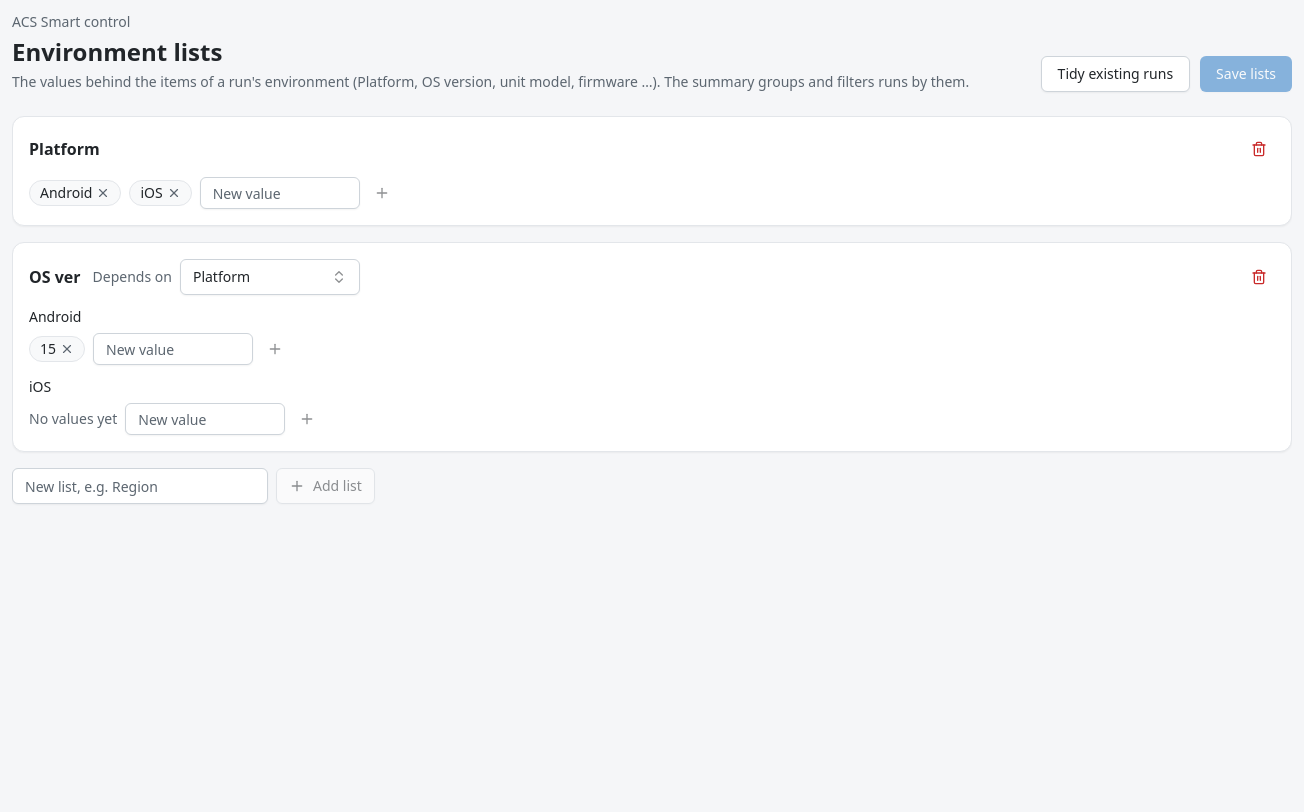
Test case: EnvListsPage › removes a value and adds a new list
Click the button named "Remove 15 from OS ver of Android".
click(67, 349)  # box left=60, top=342, right=74, bottom=356
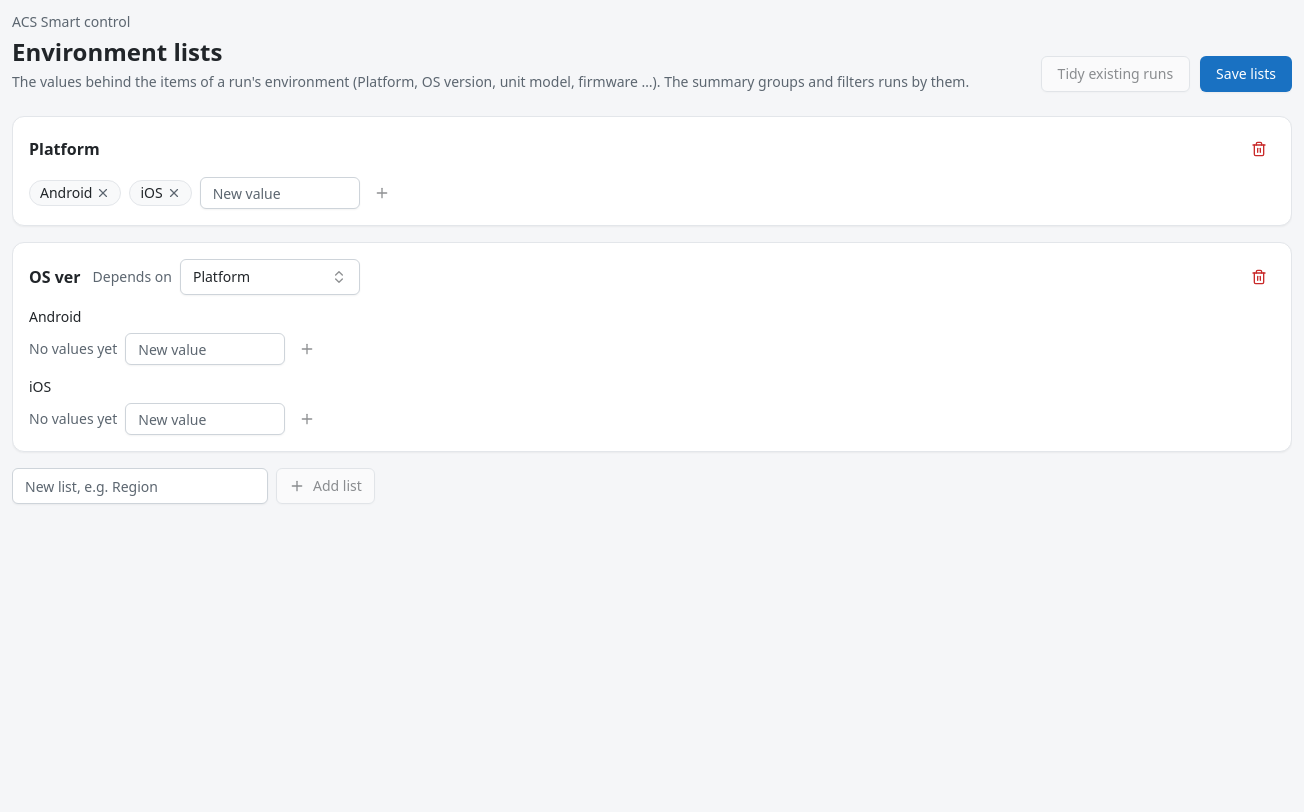
Expected: the text "15" is gone
Type "Region" into the field labelled "New list".
click(140, 486); type("Region")  # box left=12, top=468, right=268, bottom=504
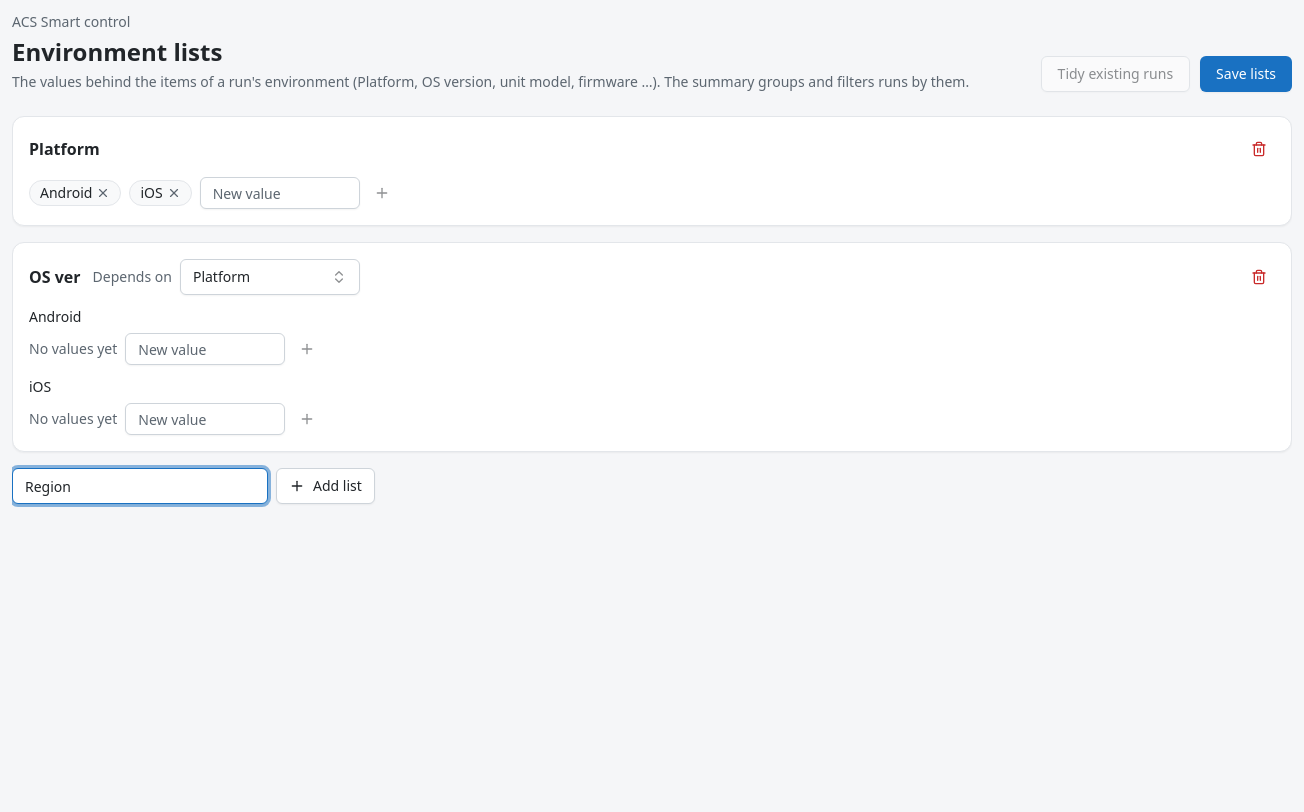
Click the button "Add list".
click(325, 486)  # box left=276, top=468, right=375, bottom=504
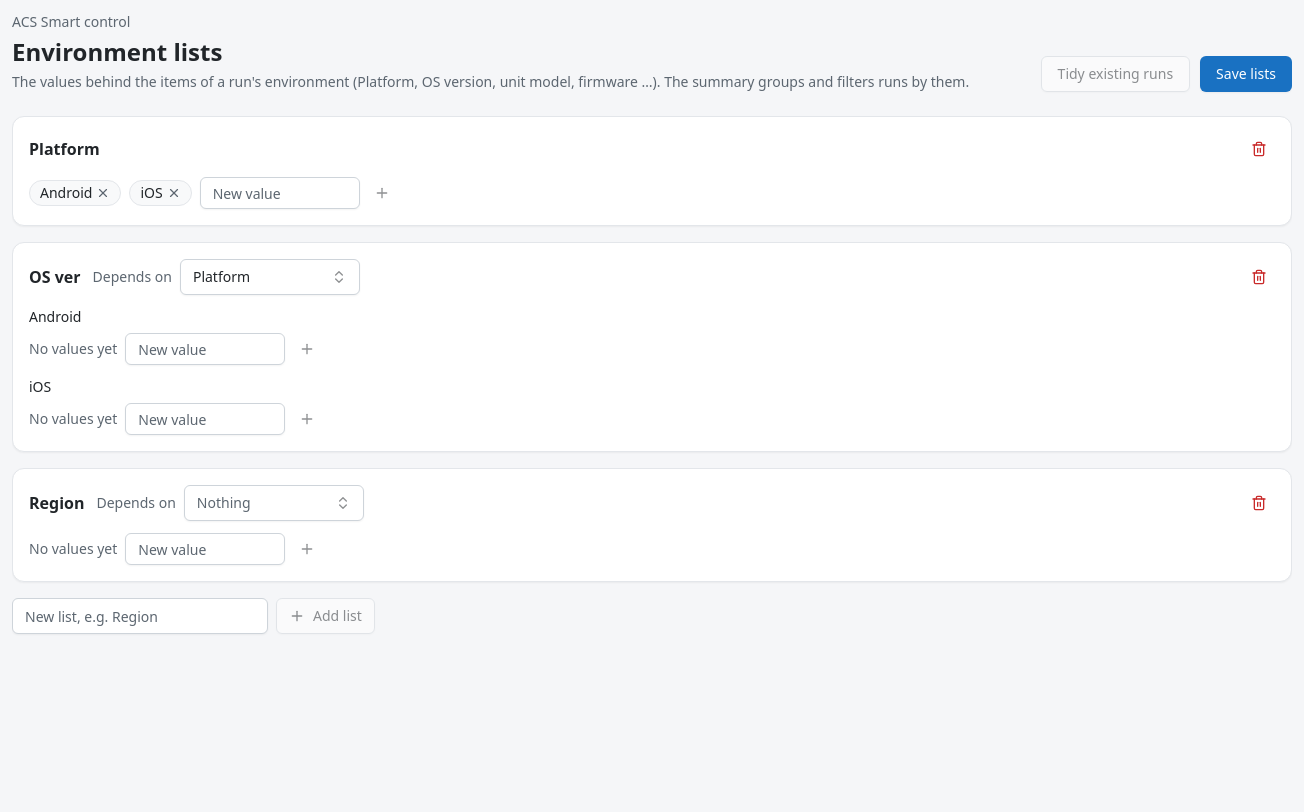
Expected: the element "Region" is shown, left=12, top=468, right=1292, bottom=582
